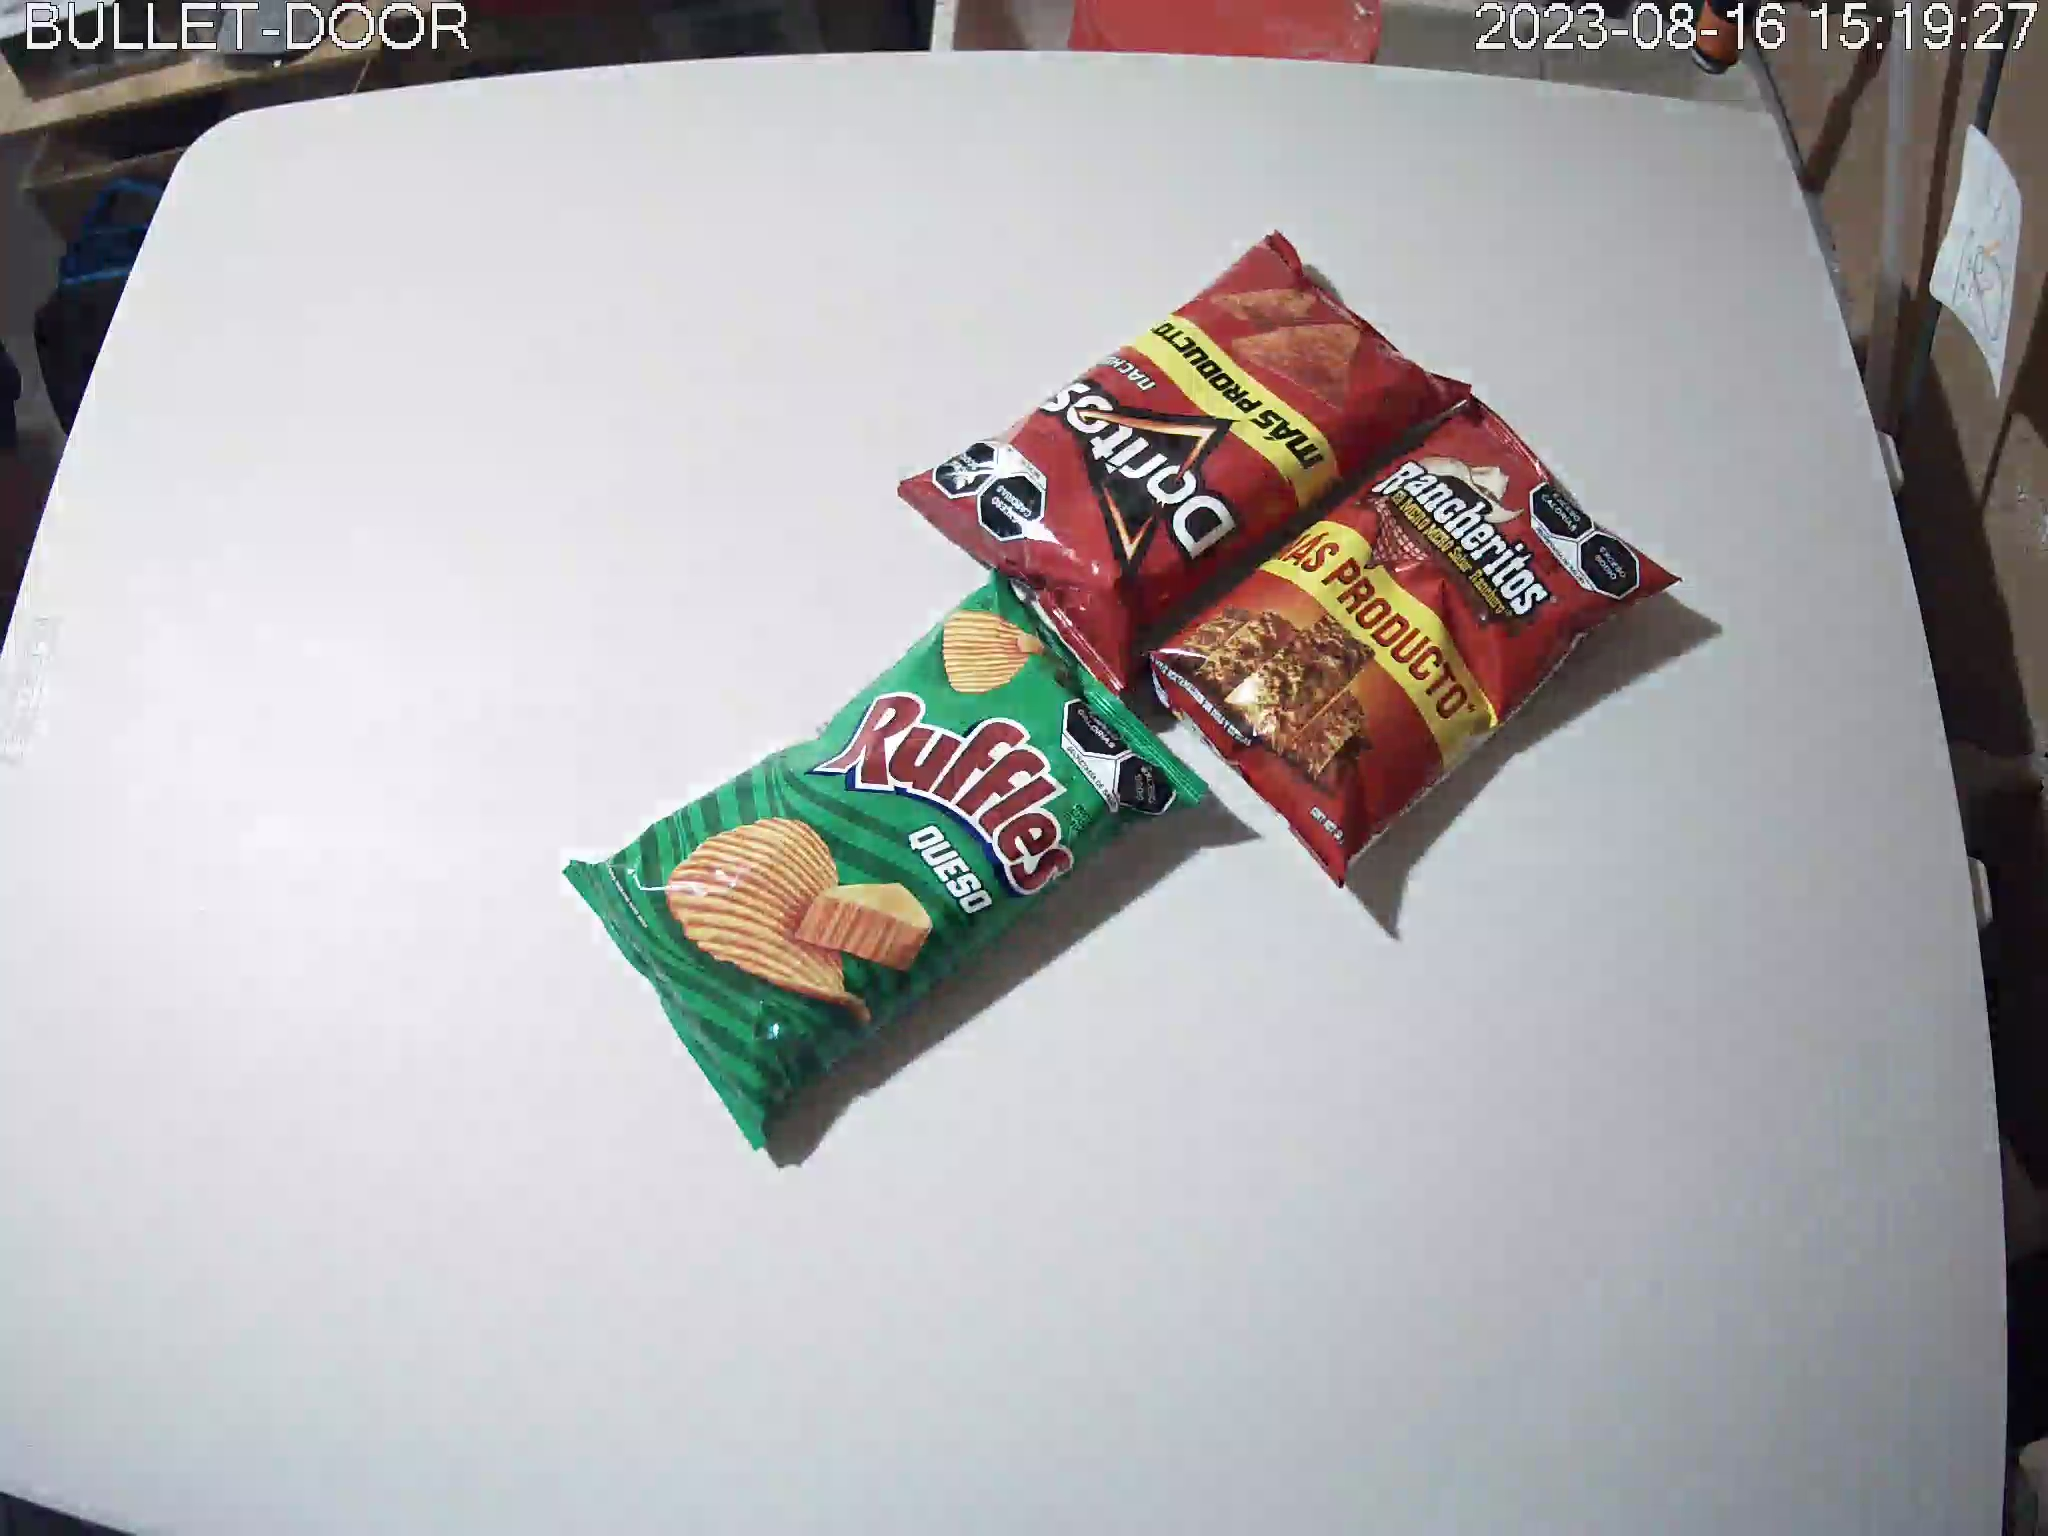DoritosN_61_F: (897, 231, 1472, 695)
Rancheritos_58_F: (1137, 392, 1684, 891)
RufflesQ_48_F: (561, 566, 1208, 1149)
